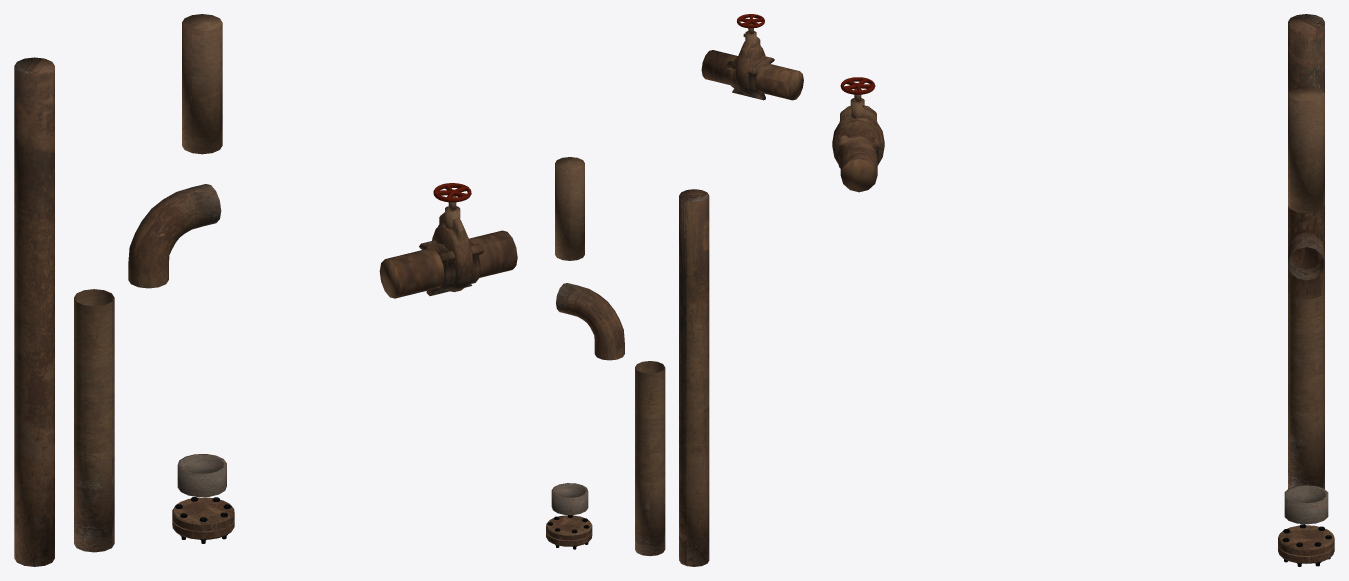
File: pipes_test.gltf
3 renders of one model, left to right at view 1: azimuth 30°, elevation 25°; view 2: azimuth 150°, elevation 25°; view 3: azimuth 270°, elevation 25°, orthographic. The views are drawn at different scales.
Parts seen in each view (by area): view 1: NurbsPath.034, NurbsPath.031, NurbsPath.027, NurbsPath.035, NurbsPath.039, NurbsPath.038, pipe_split.013, NurbsPath.036; view 2: NurbsPath.034, NurbsPath.031, NurbsPath.027, NurbsPath.035, NurbsPath.039, NurbsPath.038, pipe_split.013, NurbsPath.036, big_valve; view 3: NurbsPath.031, NurbsPath.027, NurbsPath.034, NurbsPath.035, NurbsPath.038, pipe_split.013, NurbsPath.039, NurbsPath.036.
Boxes of the visible parts, x1,y1,x2,y2 form: NurbsPath.034: (14, 57, 54, 566); NurbsPath.031: (74, 289, 114, 552); NurbsPath.027: (182, 14, 222, 154); NurbsPath.035: (128, 184, 221, 288); NurbsPath.039: (379, 230, 517, 298); NurbsPath.038: (419, 196, 484, 295); pipe_split.013: (172, 497, 234, 543); NurbsPath.036: (177, 454, 226, 497); NurbsPath.034: (679, 189, 709, 566); NurbsPath.031: (635, 361, 665, 556); NurbsPath.027: (555, 157, 584, 260); NurbsPath.035: (556, 283, 624, 360); NurbsPath.039: (701, 50, 803, 100); NurbsPath.038: (726, 23, 774, 100); pipe_split.013: (546, 515, 592, 549); NurbsPath.036: (551, 483, 588, 515); big_valve: (737, 14, 764, 28); NurbsPath.031: (1288, 292, 1324, 488); NurbsPath.027: (1288, 86, 1324, 212); NurbsPath.034: (1288, 14, 1324, 249); NurbsPath.035: (1288, 232, 1324, 299); NurbsPath.038: (832, 88, 884, 168); pipe_split.013: (1278, 524, 1334, 566); NurbsPath.039: (840, 141, 877, 192); NurbsPath.036: (1284, 485, 1328, 524).
Bounding box in the file's own units: 2.07 × 4.25 × 4.08.
Materials: 4 (2 with a texture image).
